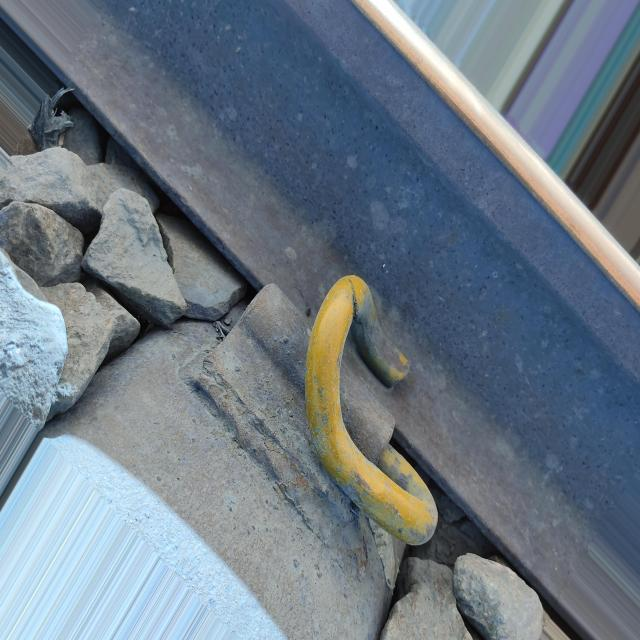Good Fasteners: (180, 273, 443, 565)
